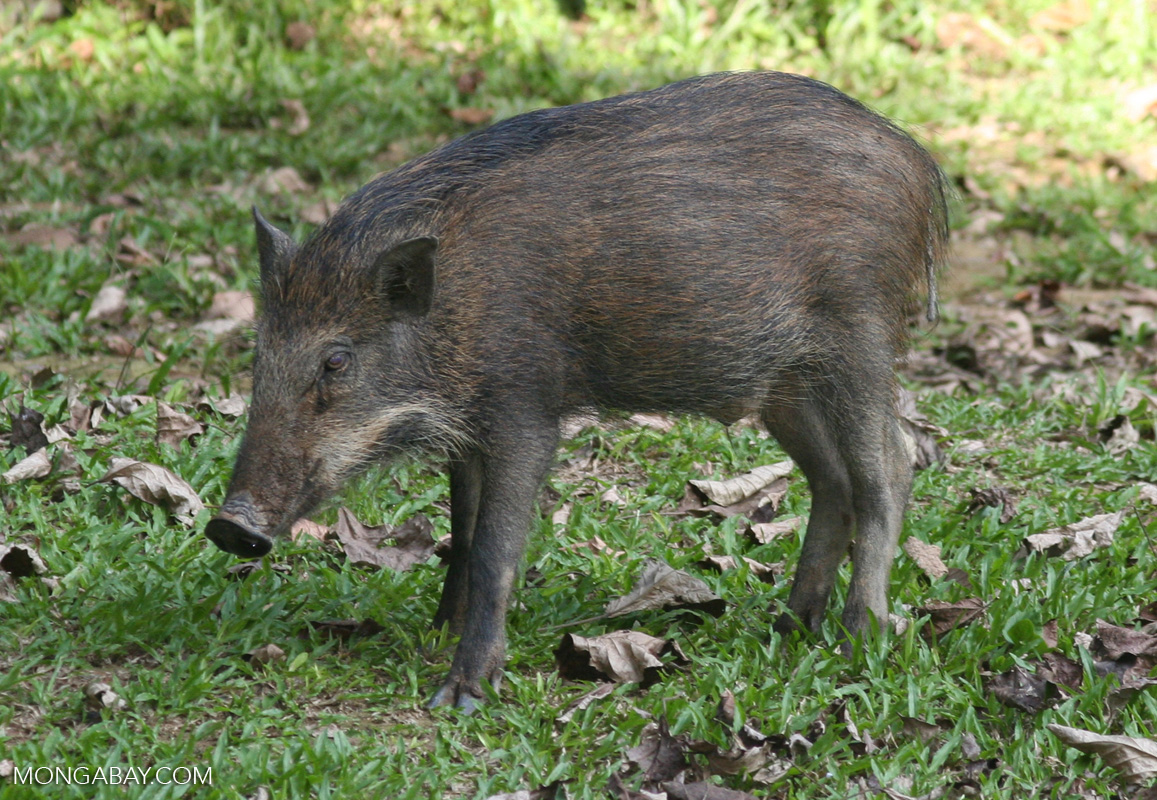boar: (193, 63, 972, 726)
